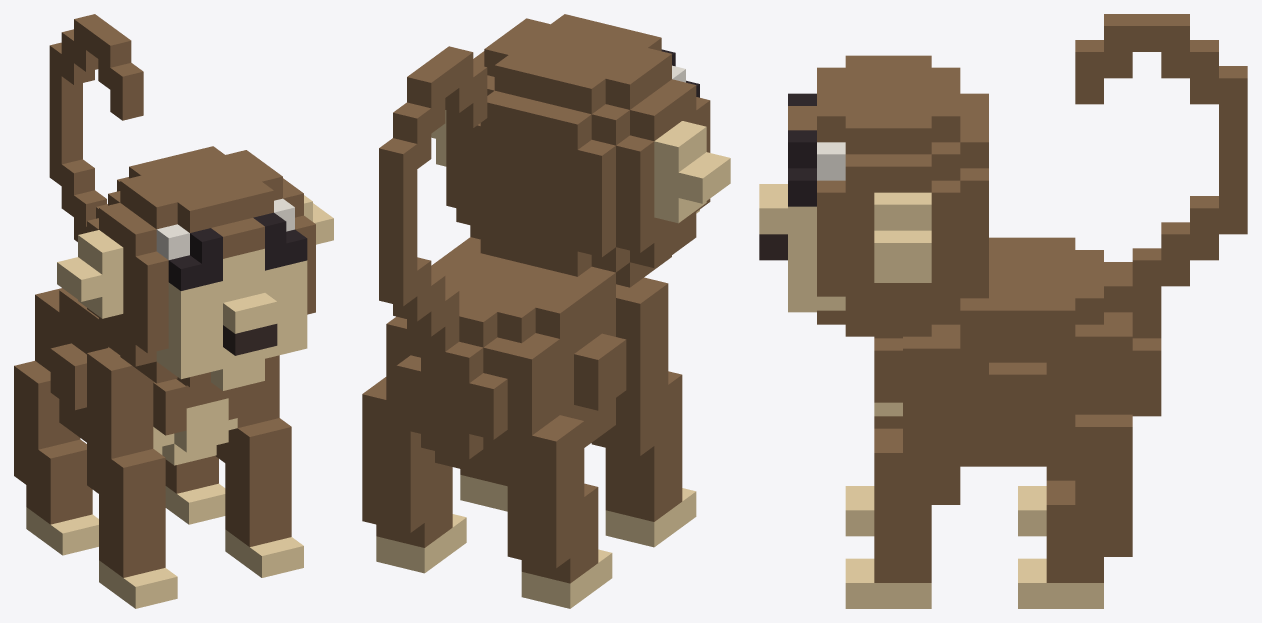
File: monkey.glb
3 renders of one model, left to right at view 1: azimuth 30°, elevation 25°; view 2: azimuth 150°, elevation 25°; view 3: azimuth 270°, elevation 25°, orthographic. The views are drawn at different scales.
Visible parts, largest first — view 1: monkey__head, monkey__leg_fr, monkey__body, monkey__leg_fl, monkey__tail, monkey__leg_br, monkey__leg_bl; view 2: monkey__head, monkey__body, monkey__leg_fr, monkey__tail, monkey__leg_br, monkey__leg_bl, monkey__leg_fl; view 3: monkey__head, monkey__body, monkey__tail, monkey__leg_fl, monkey__leg_bl, monkey__leg_br, monkey__leg_fr.
Boxes of the visible parts, left/top/right/bottom form: monkey__head: left=57, top=146, right=333, bottom=390; monkey__leg_fr: left=87, top=348, right=177, bottom=608; monkey__body: left=35, top=288, right=258, bottom=465; monkey__leg_fl: left=215, top=355, right=303, bottom=577; monkey__tail: left=49, top=14, right=143, bottom=241; monkey__leg_br: left=14, top=361, right=98, bottom=555; monkey__leg_bl: left=165, top=456, right=225, bottom=524; monkey__head: left=431, top=14, right=730, bottom=287; monkey__body: left=386, top=237, right=629, bottom=474; monkey__leg_fr: left=591, top=277, right=696, bottom=547; monkey__tail: left=379, top=46, right=487, bottom=351; monkey__leg_br: left=483, top=415, right=612, bottom=608; monkey__leg_bl: left=362, top=377, right=466, bottom=573; monkey__leg_fl: left=460, top=469, right=507, bottom=511; monkey__head: left=759, top=55, right=988, bottom=336; monkey__body: left=874, top=237, right=1161, bottom=466; monkey__tail: left=1075, top=14, right=1247, bottom=312; monkey__leg_fl: left=845, top=336, right=960, bottom=608; monkey__leg_bl: left=1018, top=414, right=1132, bottom=608; monkey__leg_br: left=1018, top=466, right=1075, bottom=536; monkey__leg_fr: left=845, top=416, right=902, bottom=536.
Size of the model in its own units: 1.2 by 2.1 by 1.7.
Materials: 1 (1 with a texture image).
